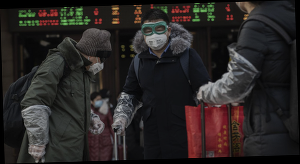with_mask: (142, 20, 169, 51), (87, 54, 106, 75), (92, 97, 104, 109)
